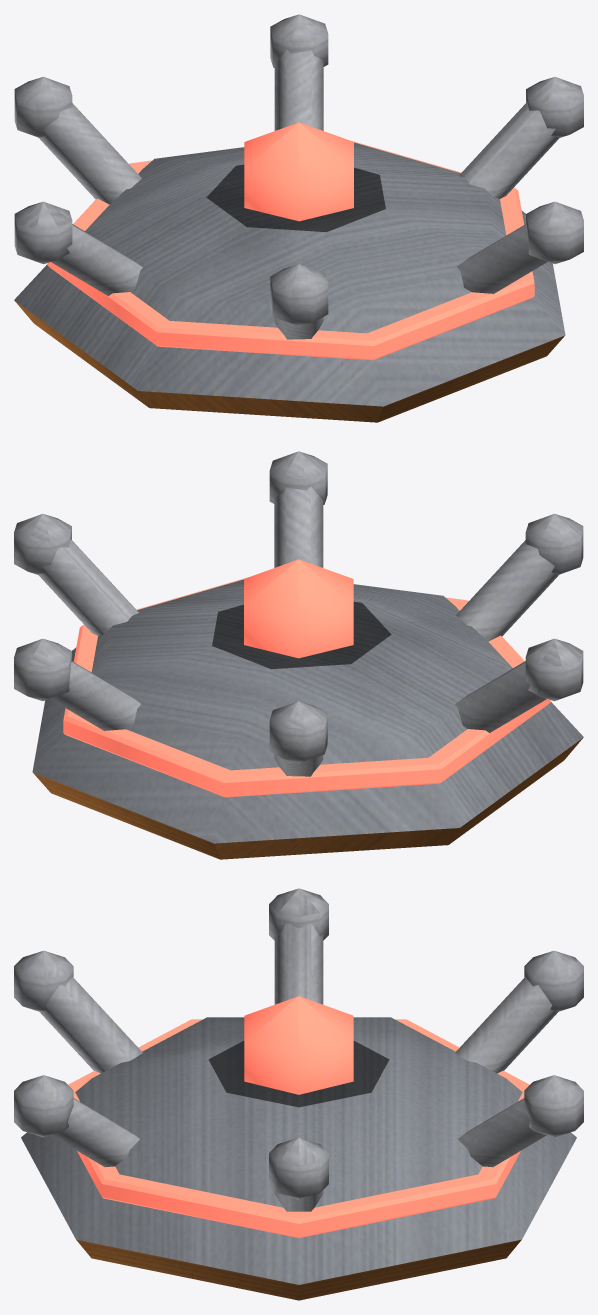
Rendered from R4D_ExplosiveTrap_LOD1.glb.
3 views of the same model, one above another, from view 1: azimuth 30°, elevation 25°; view 2: azimuth 150°, elevation 25°; view 3: azimuth 270°, elevation 25° (orthographic).
Visible parts, largest first — view 1: R4D_ExplosiveTrap_LOD1; view 2: R4D_ExplosiveTrap_LOD1; view 3: R4D_ExplosiveTrap_LOD1.
Boxes of the visible parts, x1,y1,x2,y2 form: R4D_ExplosiveTrap_LOD1: (14,14,583,422); R4D_ExplosiveTrap_LOD1: (14,451,583,859); R4D_ExplosiveTrap_LOD1: (14,888,583,1300).
Bounding box in the file's own units: 0.489 × 0.16 × 0.4295.
Materials: 5 (4 with a texture image).
